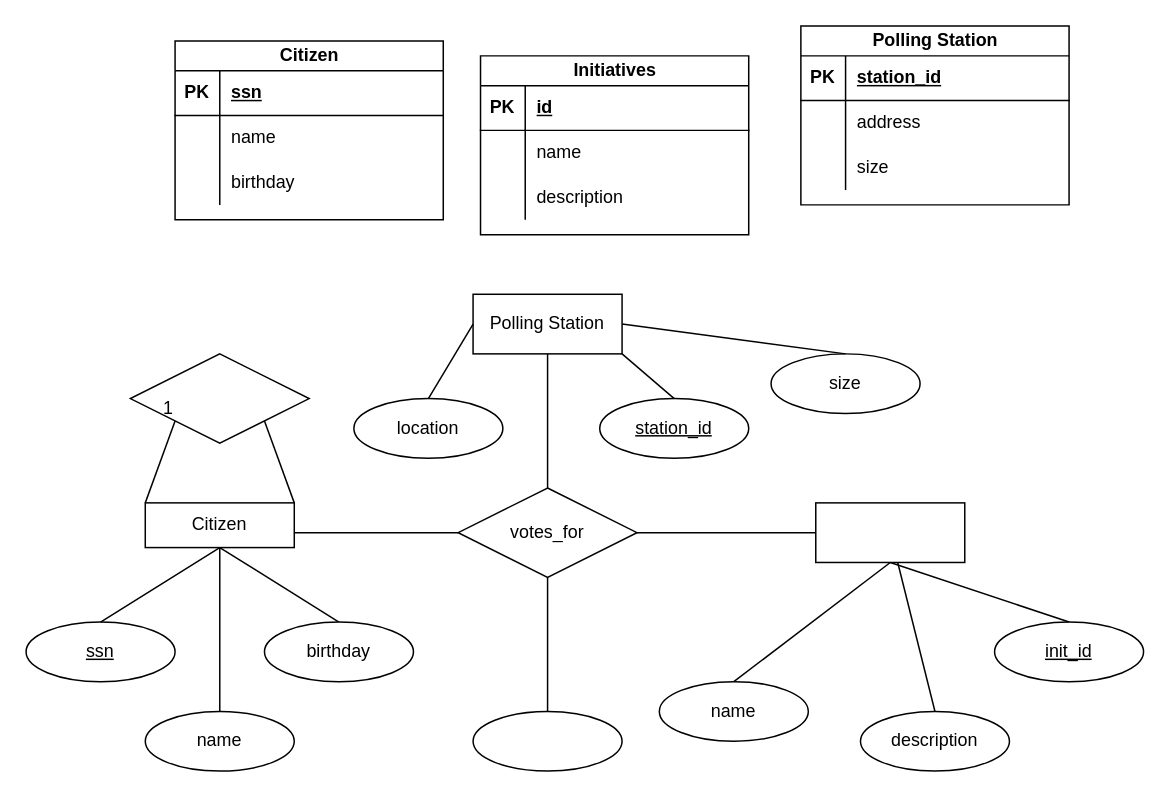
This 1170x797 diagram has some shape labels left out. Each missing label, with the centre of its shape:
"date" belongs at [547,740].
"Initiative" belongs at [889,531].
"represents" belongs at [219,397].
